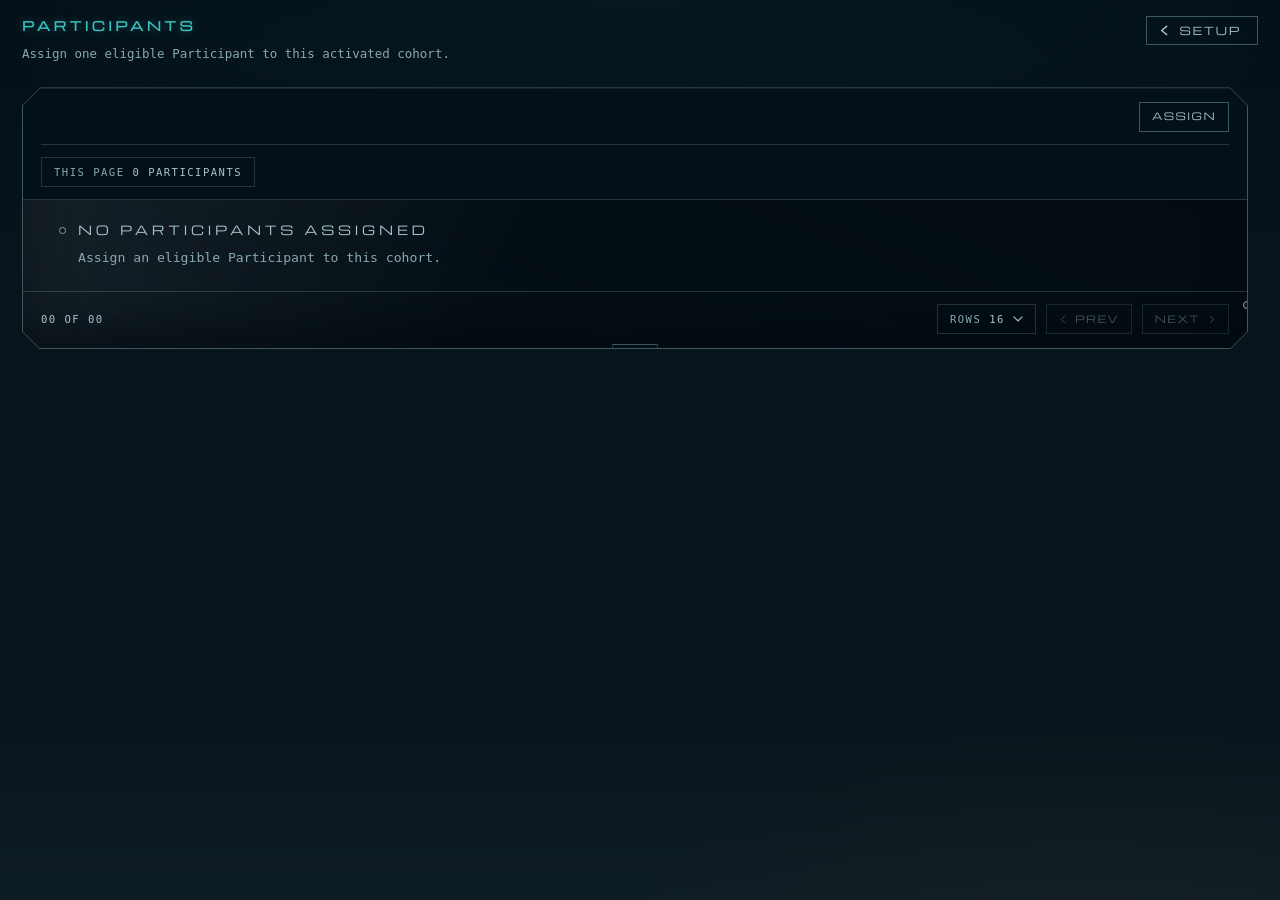
Test: ProductionEnrollmentPage › disables Next and does not reuse the previous cursor while a new Assign search is pending
Click the button "Assign".
click(1184, 117)  # box [1139,102,1229,132]
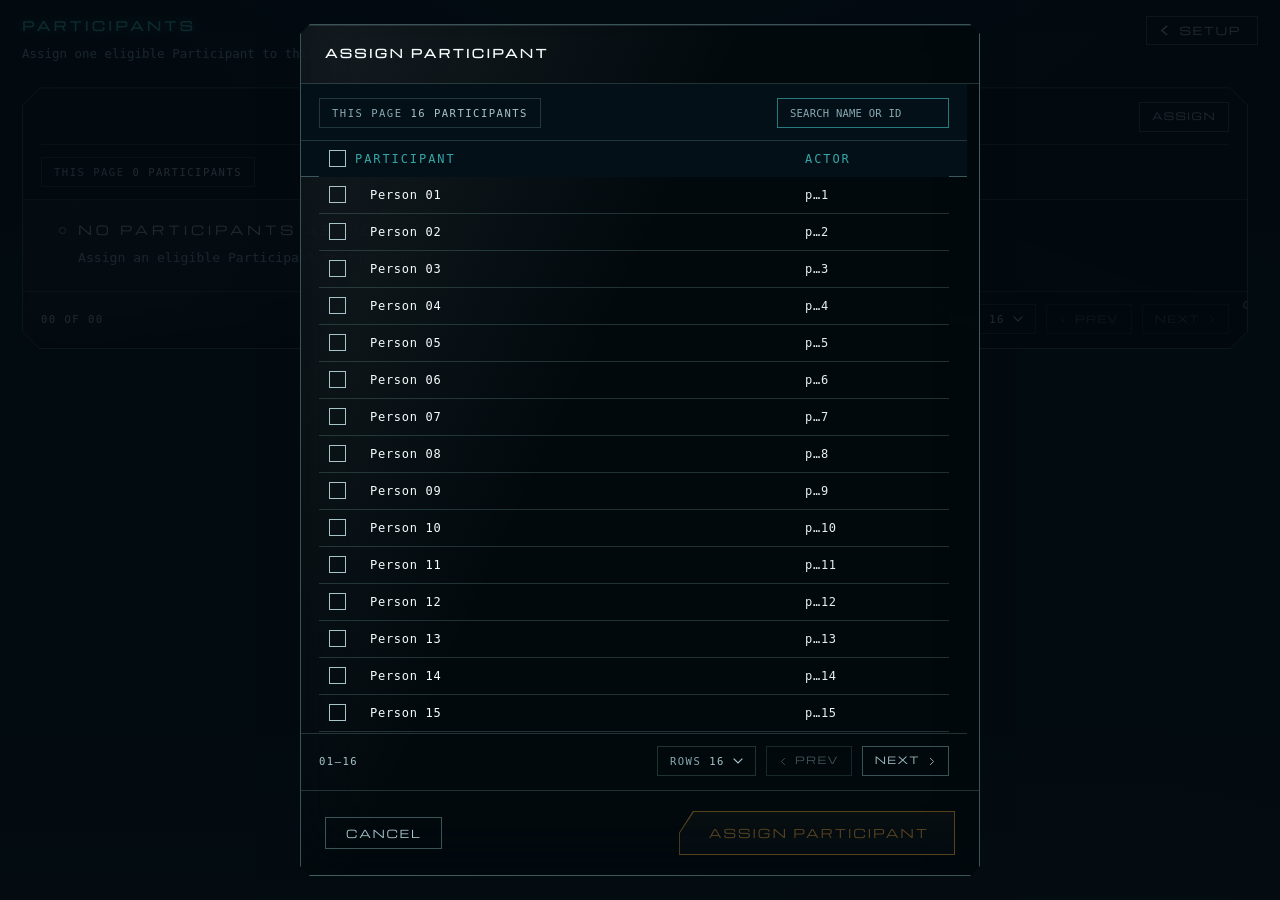
Now the button "Person 01" is shown, box [355,188,442,202]
Now the button "Next" is enabled, box [862,746,949,776]
Type "Casey" into the search field named "Search participant or actor".
click(863, 113); type("Casey")  # box [778,99,948,127]
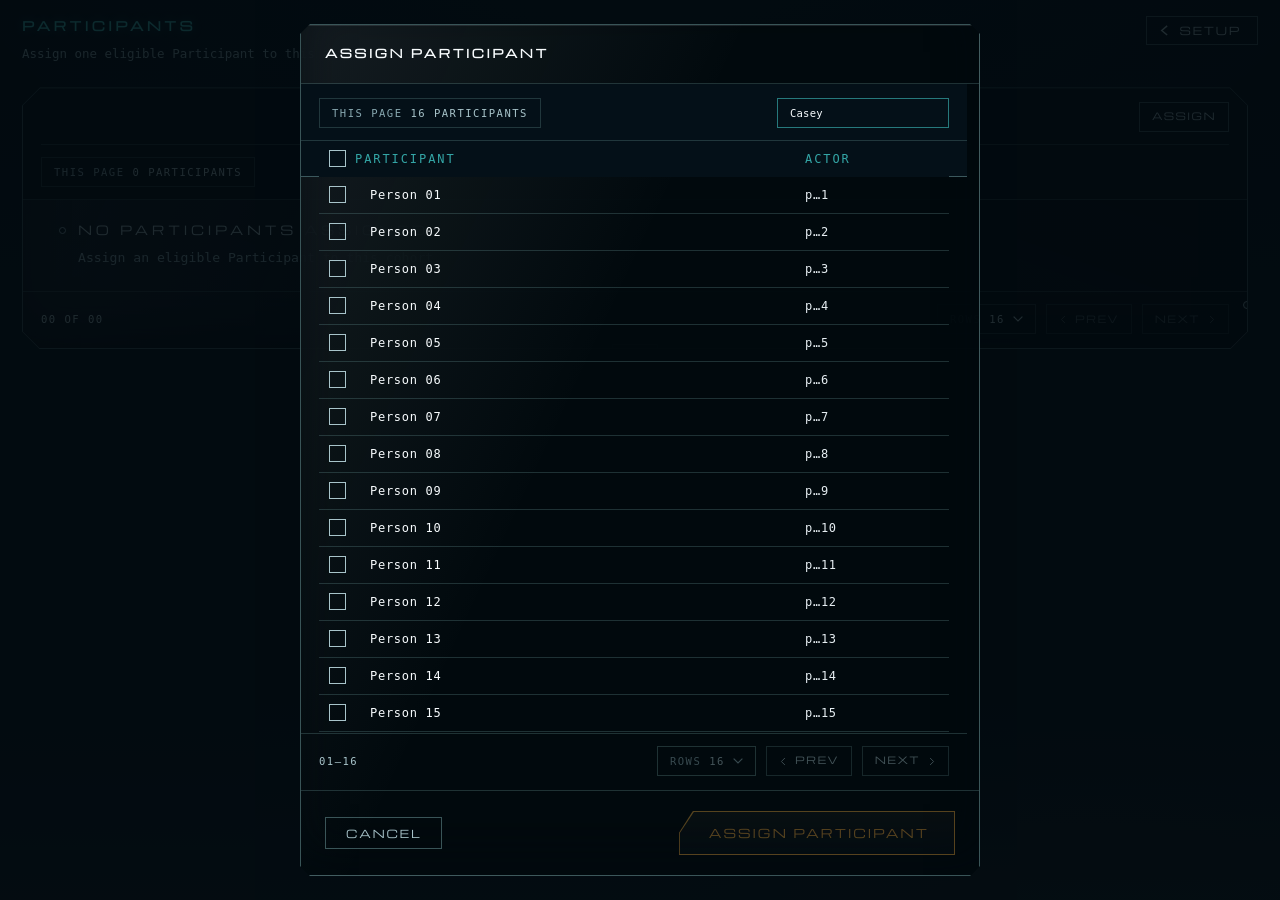
Now the button "Next" is disabled
Click the button "Next".
click(905, 761)  # box [862,746,949,776]
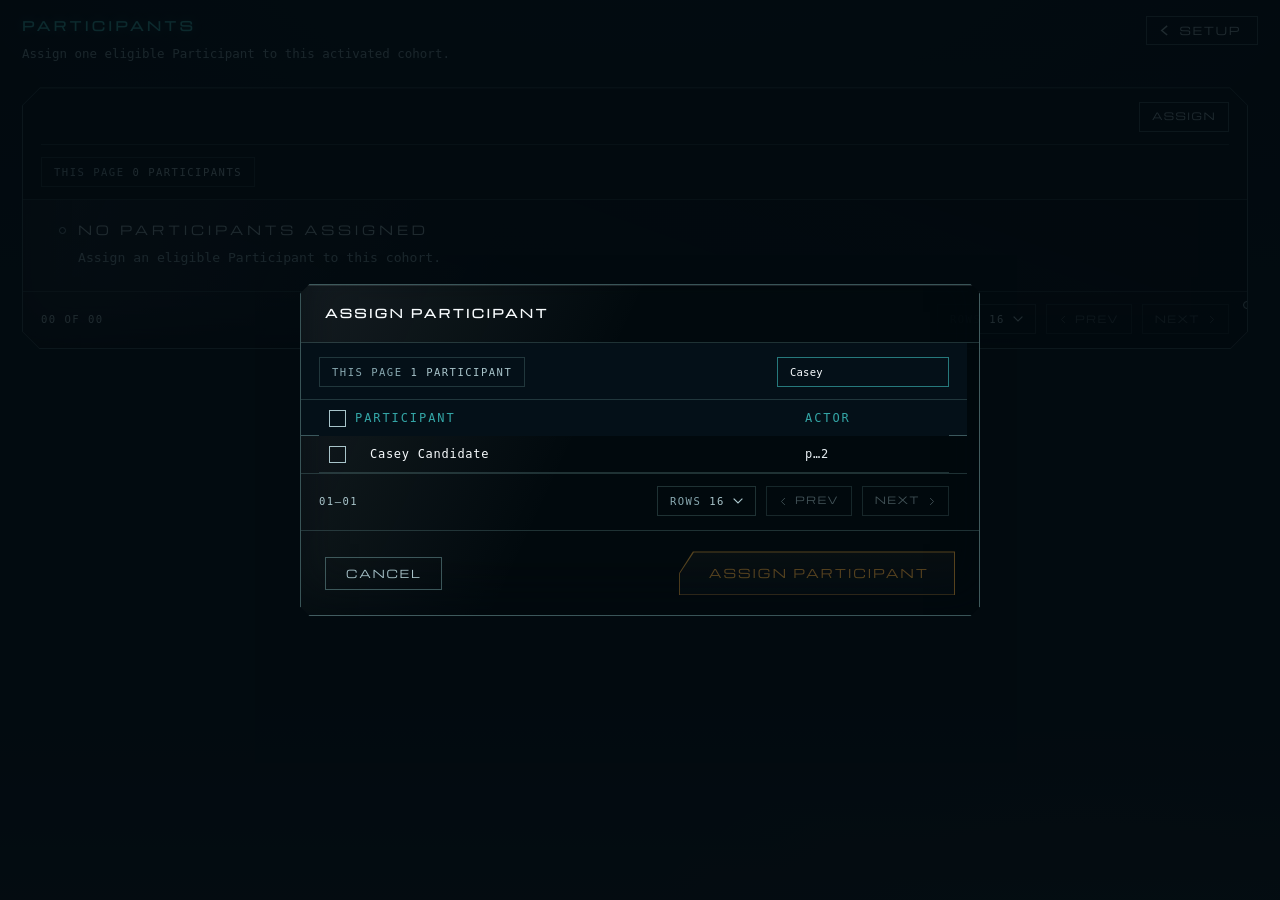
Now the button "Casey Candidate" is shown, box [355,447,489,462]
